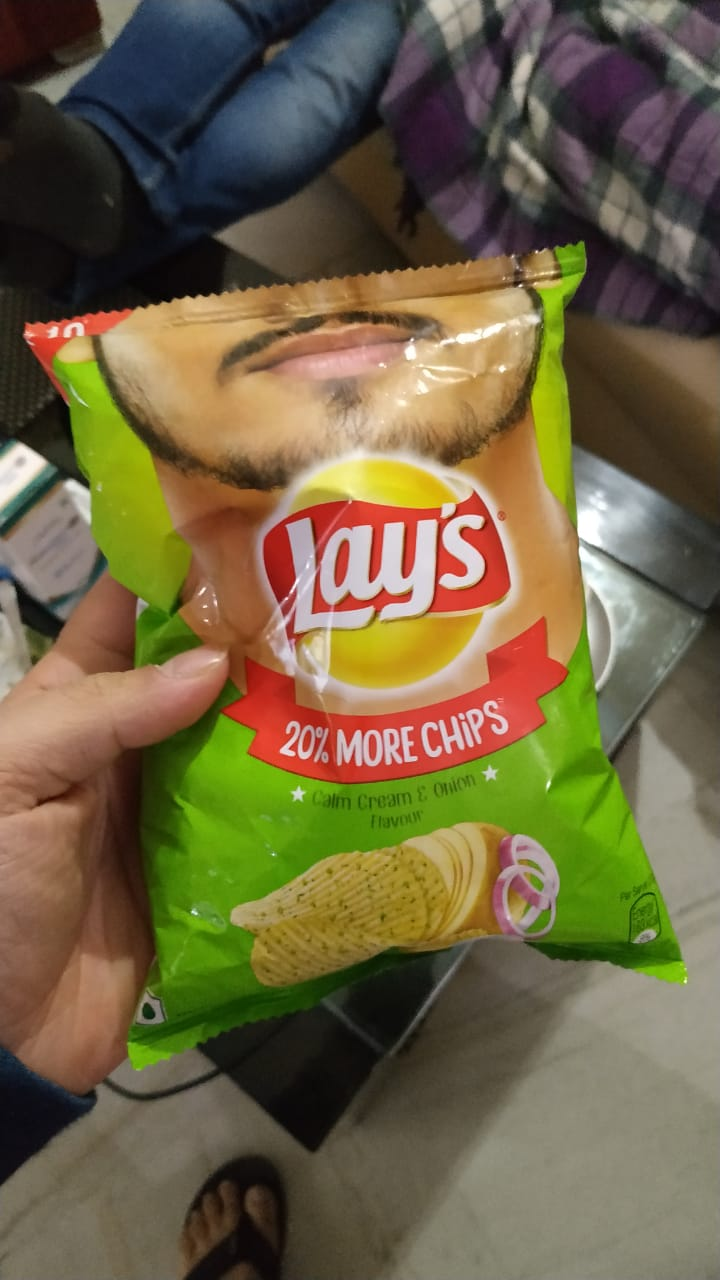lays chips: (29, 247, 676, 1023)
